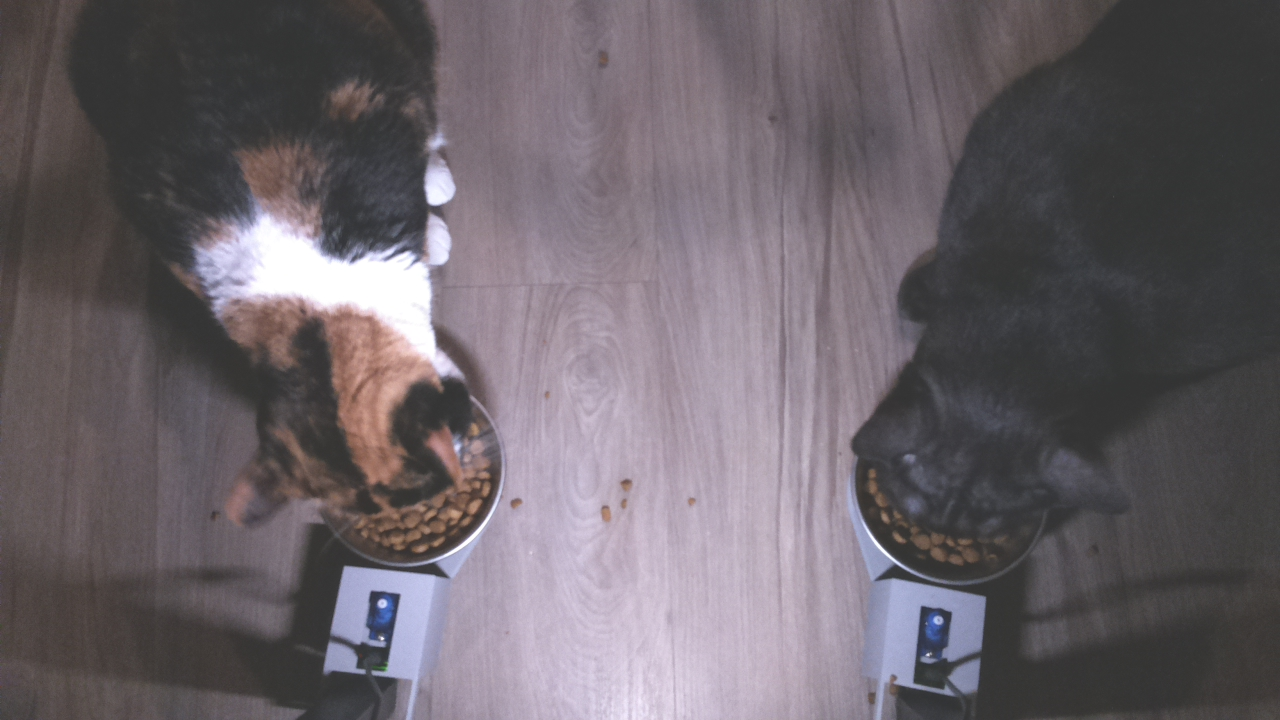bella_eating: (212, 207, 515, 561)
saki_eating: (839, 347, 1134, 600)
